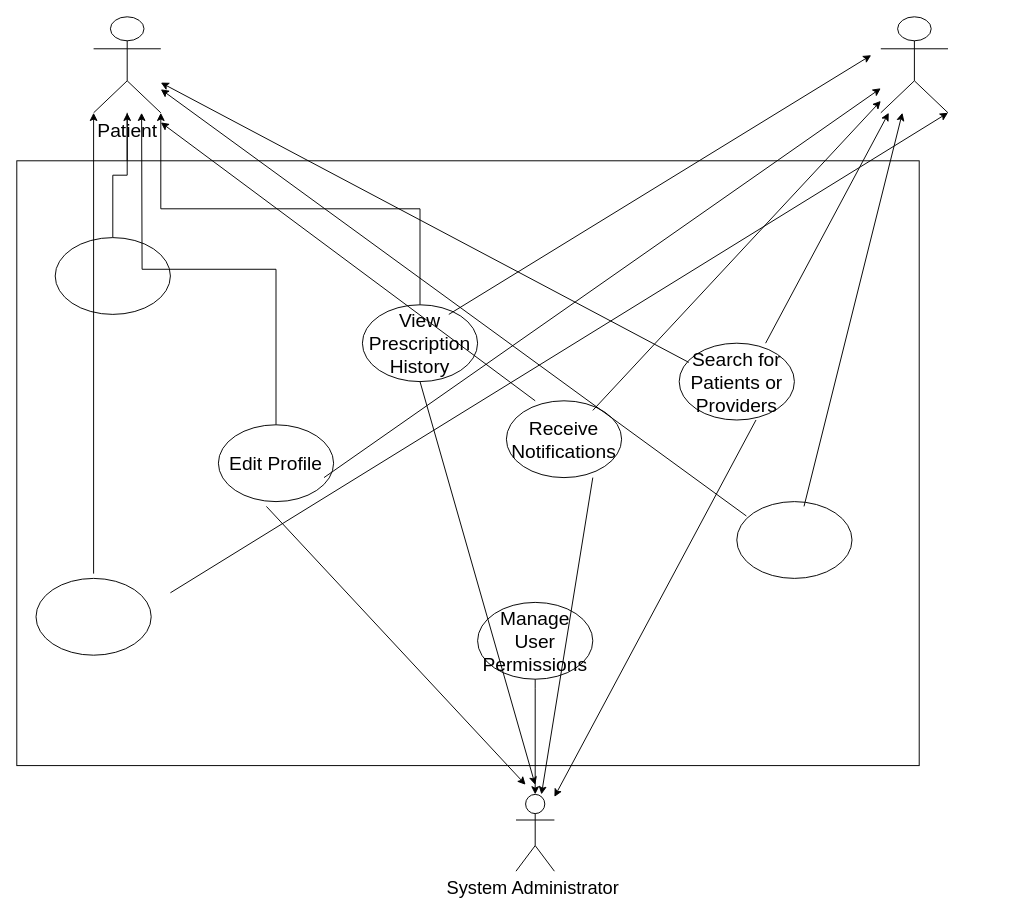
The diagram is 1016 pixels wide and 917 high, and some of its shapes have lost their labels. Each missing label, with the box of its shape:
Book Appointment: (35, 577, 151, 655)
Cancel Appointment: (736, 501, 852, 578)
Healthcare Provider: (880, 16, 948, 113)
Patient Registration: (54, 237, 170, 314)
